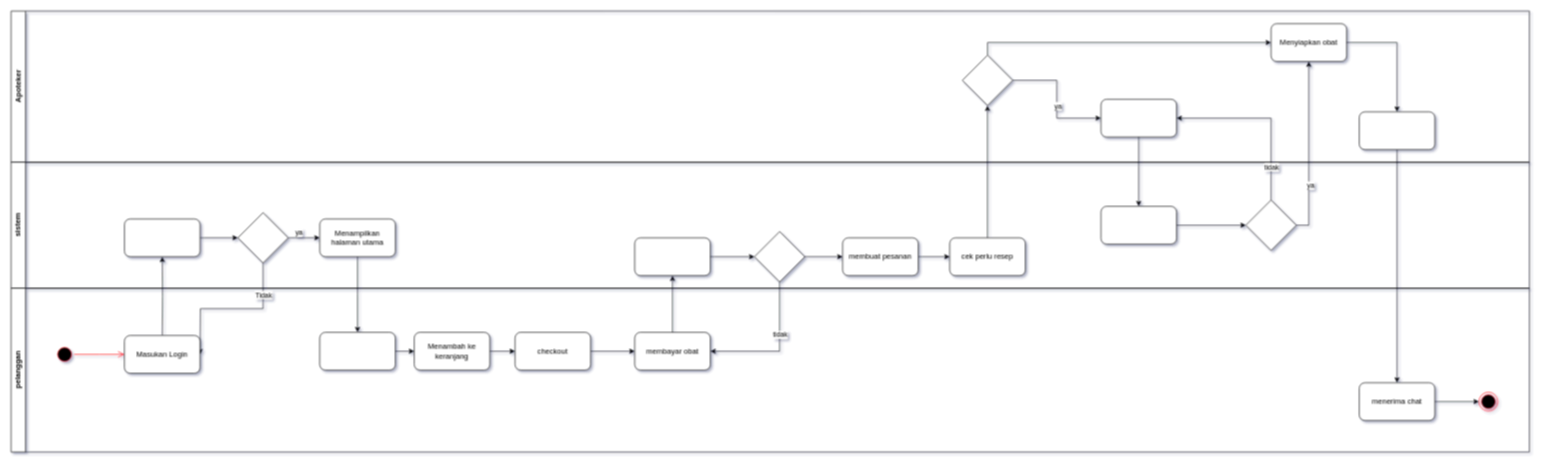
Image size: 1544x467. Some labels were removed from this diagram. Each missing label, with the centre of its shape:
"kirim chat" goes at [1397,130].
"Membuat Resep" goes at [1138,118].
"Memilih Obat" goes at [357,351].
"Verifikasi data" goes at [162,237].
"verifikasi pembayaran" goes at [672,256].
"Verifikasi resep" goes at [1138,225].
